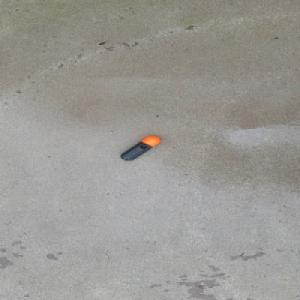PlasticPart: (119, 135, 162, 161)
